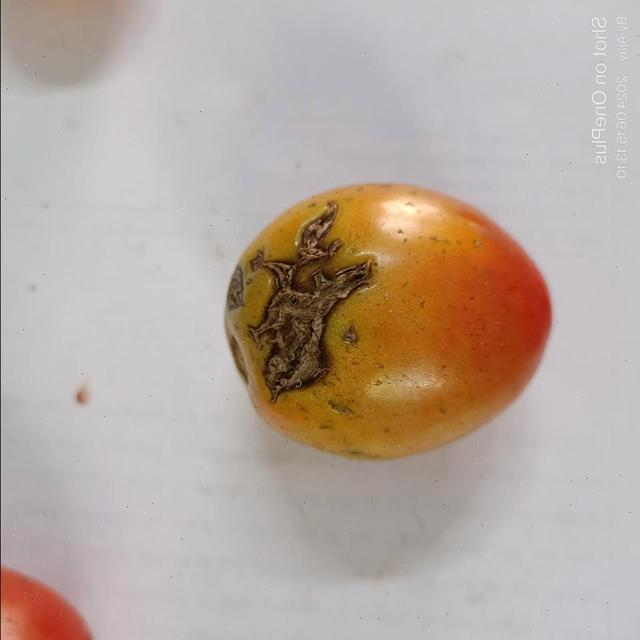Bacterial Spot Fruit: (166, 134, 251, 266)
